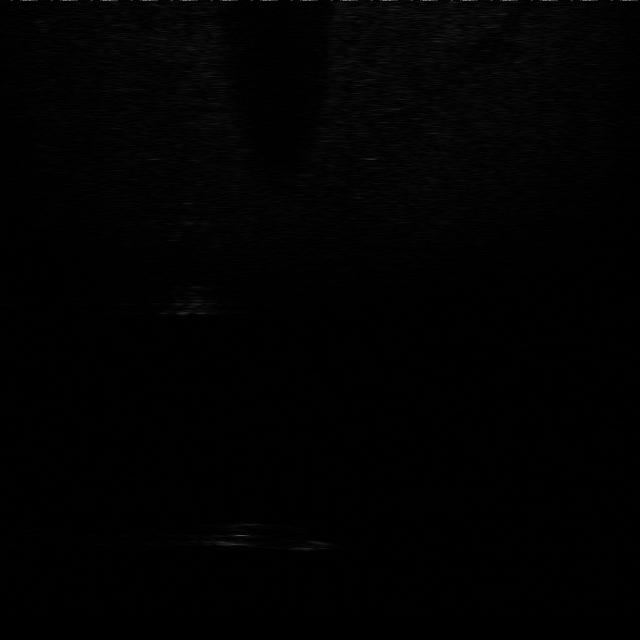ball: (168, 201, 208, 230)
circle cage: (158, 282, 220, 320)
tyre: (198, 514, 340, 559)
